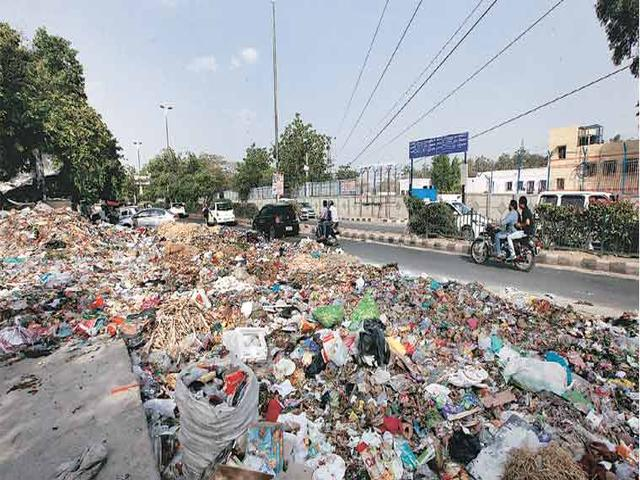garbage: (154, 227, 355, 476), (365, 288, 637, 467), (7, 212, 154, 304)
